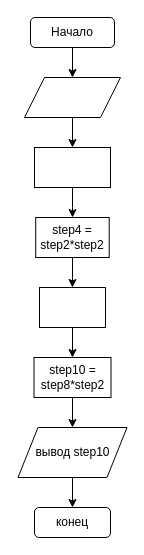
Some shapes in this 144 by 555 pixel diagram are drawn without their labels. Here are the shapes that lost their labels. From the top down, the centre of each, then its label:
At (72,97): "ввод A".
At (72,167): "step2 = A * A".
At (72,307): "step8 = step4*step4".
